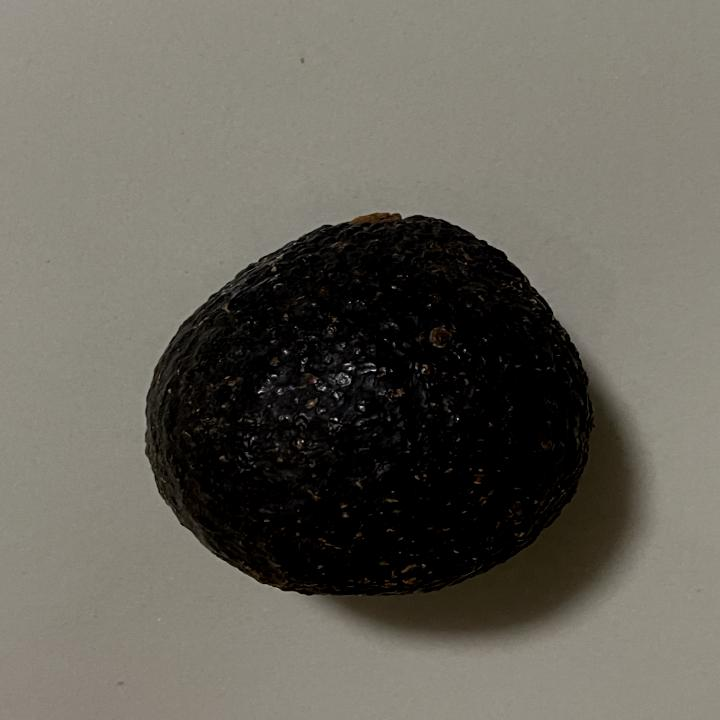Level2: (133, 204, 601, 604)
